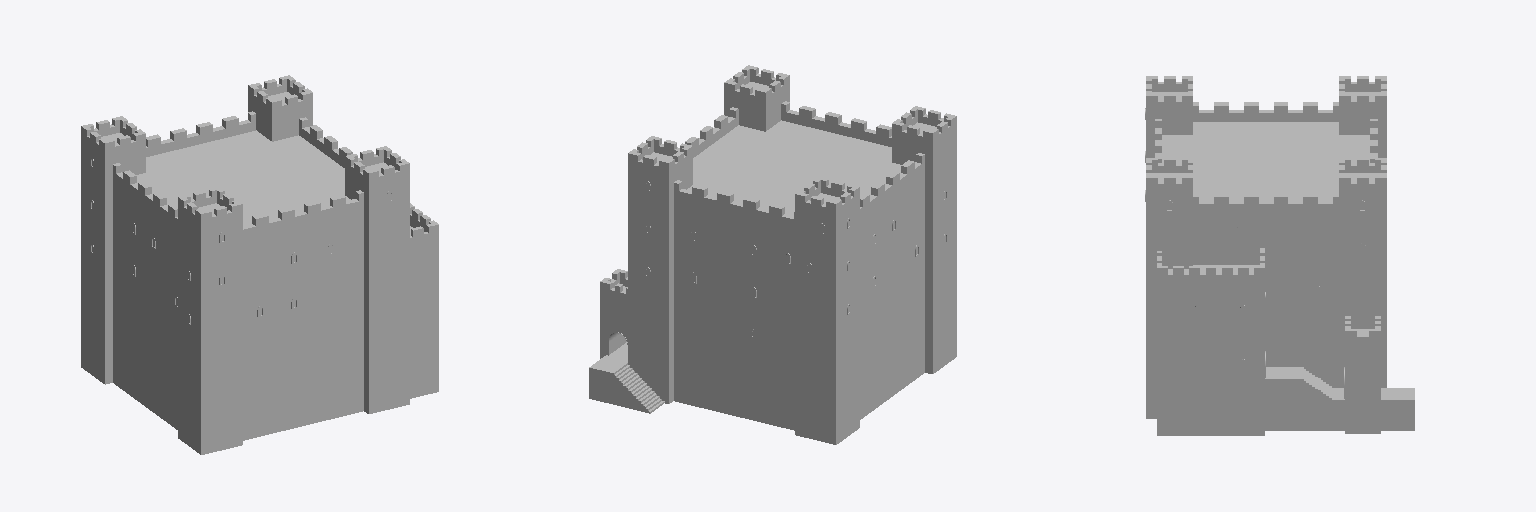
The model's file is keep_west.obj.
The picture shows the model from 3 angles: view 1: azimuth 30°, elevation 25°; view 2: azimuth 150°, elevation 25°; view 3: azimuth 270°, elevation 25°; orthographic projection.
Visible parts, largest first — view 1: Keep_Untitled; view 2: Keep_Untitled; view 3: Keep_Untitled.
Boxes of the visible parts, box(x1,y1,x2,y2) form: Keep_Untitled: box(81, 75, 438, 454); Keep_Untitled: box(589, 65, 956, 444); Keep_Untitled: box(1145, 76, 1414, 435).
Bounding box in the file's own units: 27.88 × 26.27 × 26.64.